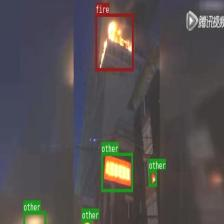fire: (95, 14, 134, 70)
